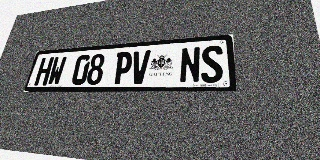0: (70, 54, 91, 85)
8: (85, 53, 106, 85)
H: (34, 57, 54, 86)
N: (179, 46, 200, 83)
P: (112, 51, 133, 84)
S: (201, 45, 223, 83)
V: (129, 50, 151, 84)
W: (46, 56, 67, 85)
